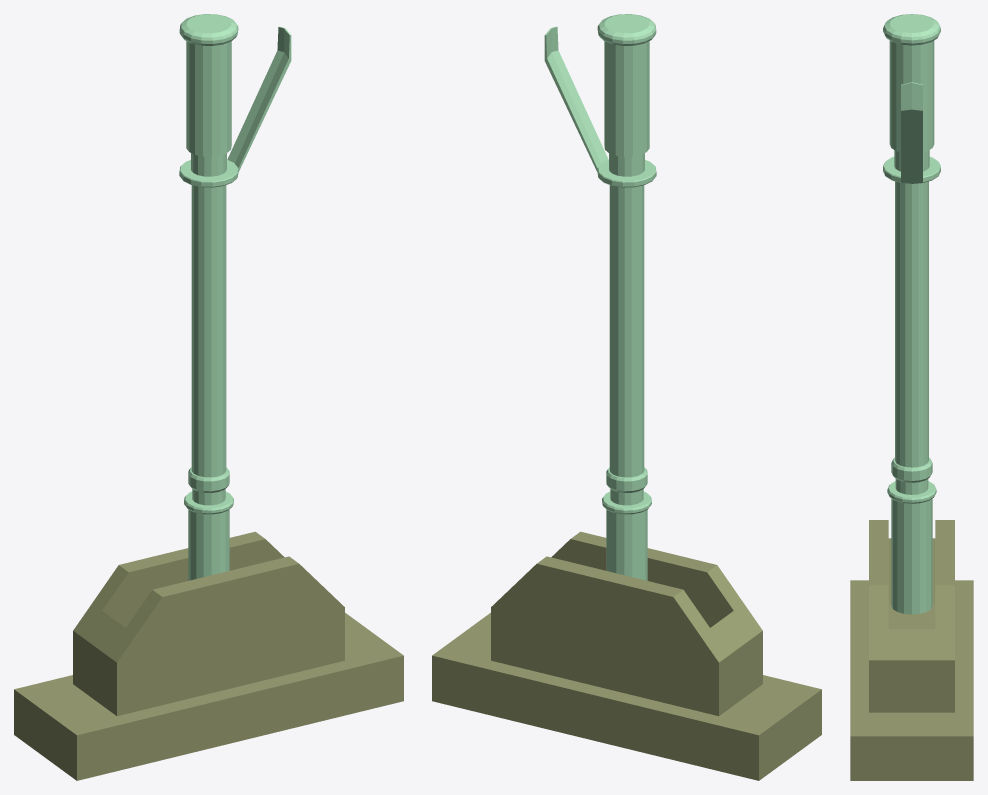
Rendered from LP_GPE_Lever.fbx.
3 views of the same model, side by side, from view 1: azimuth 30°, elevation 25°; view 2: azimuth 150°, elevation 25°; view 3: azimuth 270°, elevation 25° (orthographic). The views are drawn at different scales.
Visible parts, largest first — view 1: LP_GPE_LeverBase, LP_GPE_Lever; view 2: LP_GPE_LeverBase, LP_GPE_Lever; view 3: LP_GPE_LeverBase, LP_GPE_Lever.
Boxes of the visible parts, x1,y1,x2,y2 form: LP_GPE_LeverBase: (14, 531, 403, 780); LP_GPE_Lever: (179, 14, 291, 580); LP_GPE_LeverBase: (432, 531, 821, 780); LP_GPE_Lever: (544, 14, 656, 580); LP_GPE_LeverBase: (850, 520, 973, 780); LP_GPE_Lever: (883, 14, 940, 614).
Size of the model in its own units: 69 by 140 by 23.
